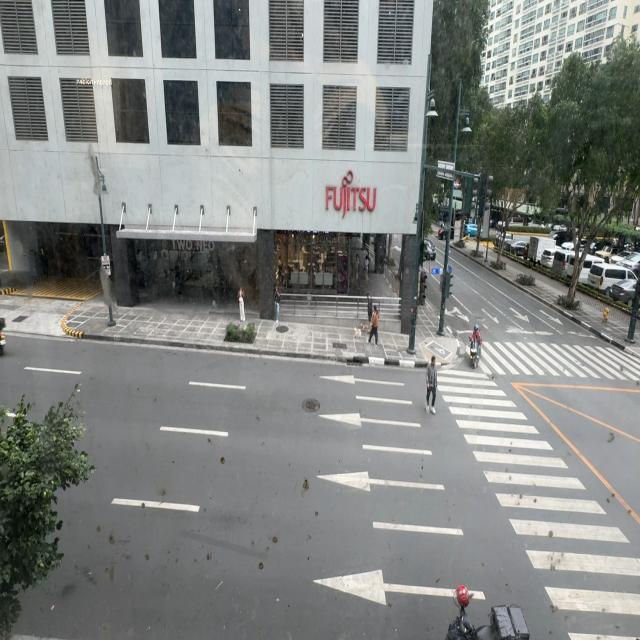jaywalking: (426, 354, 438, 414)
pedestrain: (367, 305, 379, 347), (273, 282, 281, 324), (238, 288, 245, 323), (367, 293, 373, 324)
